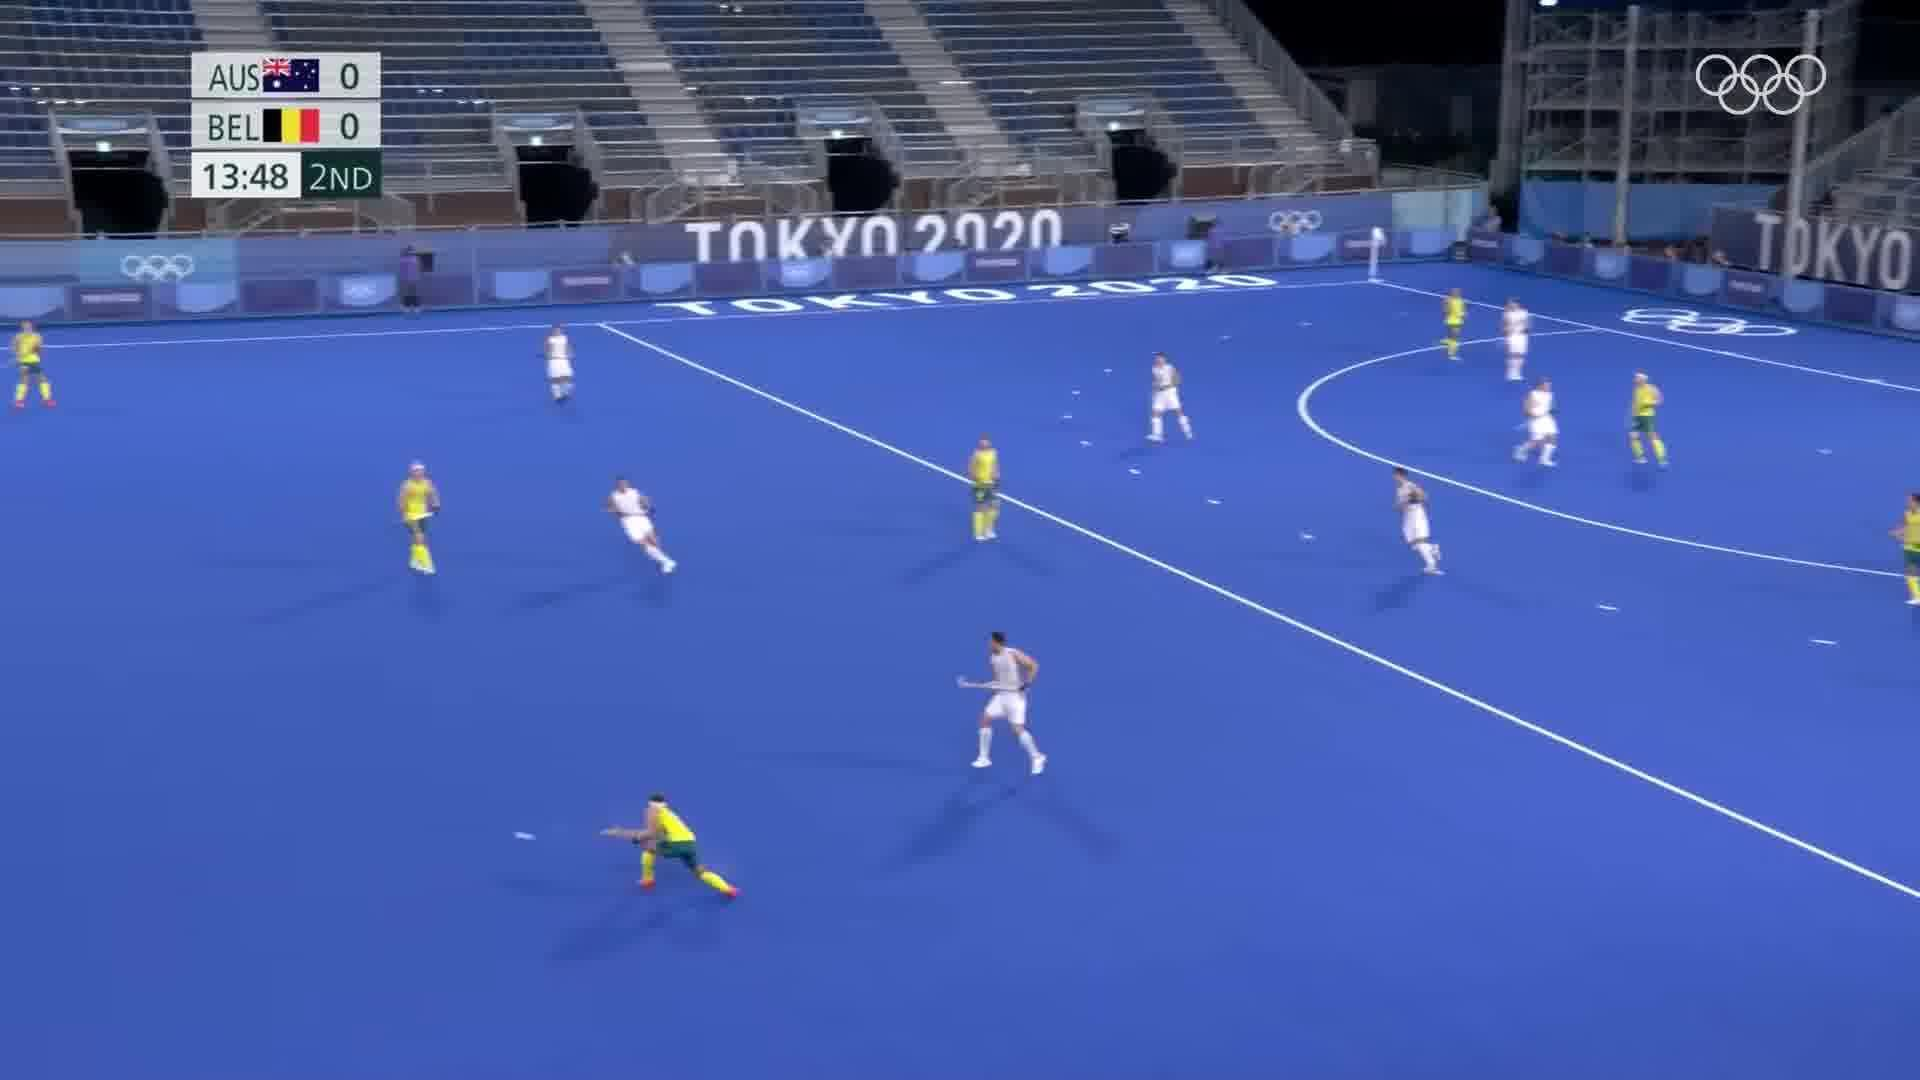ball: (504, 823, 541, 849)
